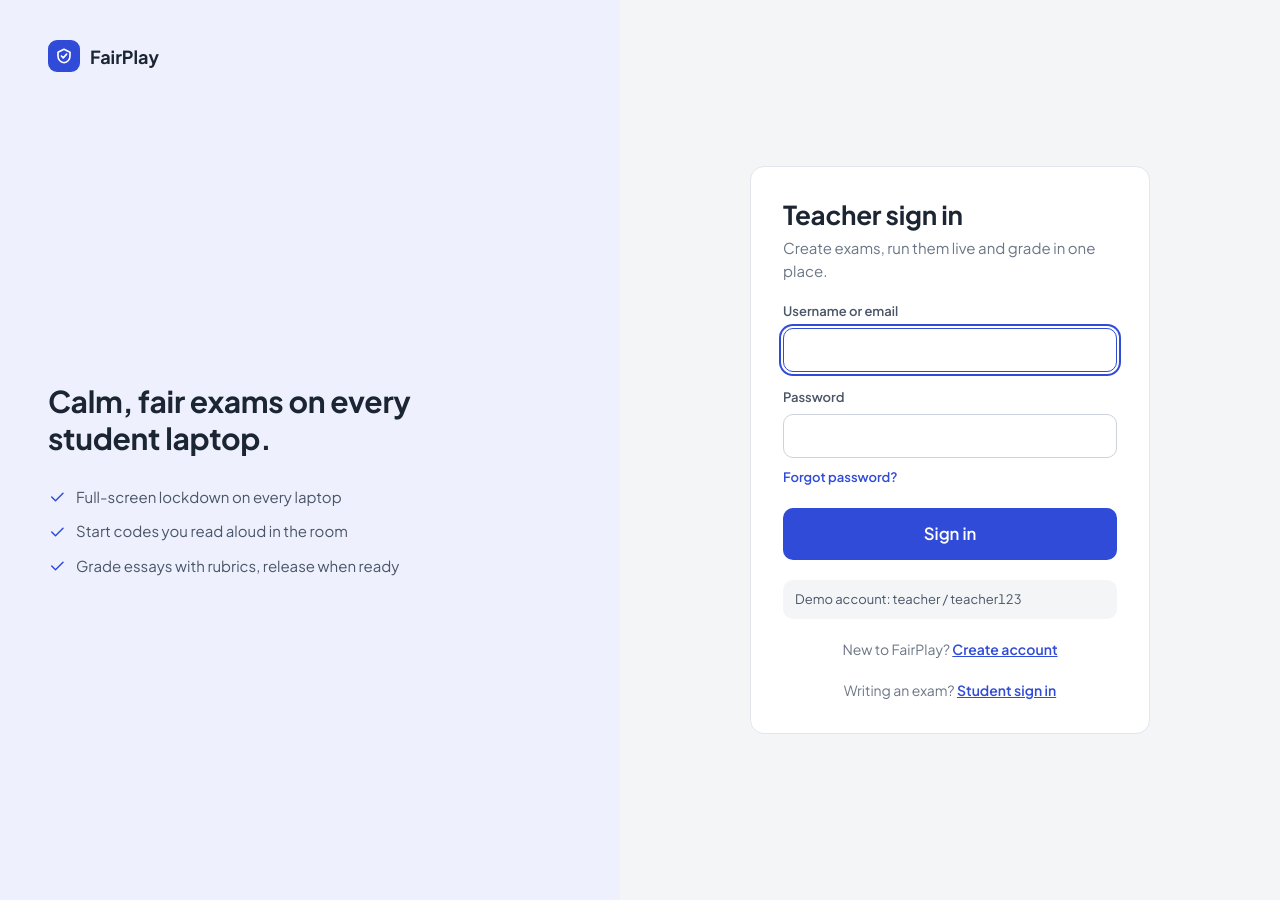
Test: LoginPage › redirects by role after sign-in (superadmin on the teacher page goes to /admin)
The image size is (1280, 900).
Type "admin" into the field labelled "Username or email" at {"x": 950, "y": 350}, box [783,328,1117,372]
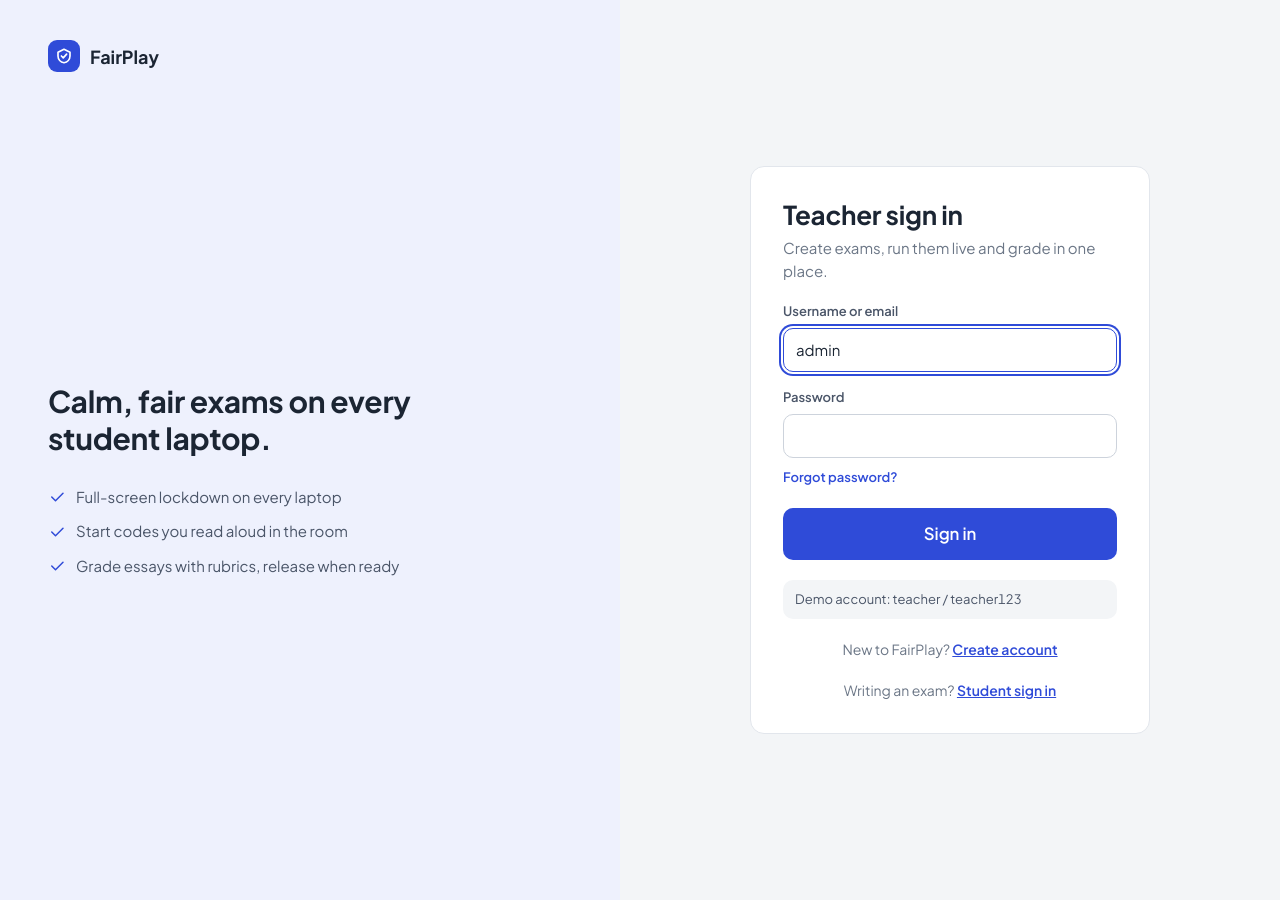
Type "admin123" into the password field labelled "Password" at {"x": 950, "y": 436}, box [783,414,1117,458]
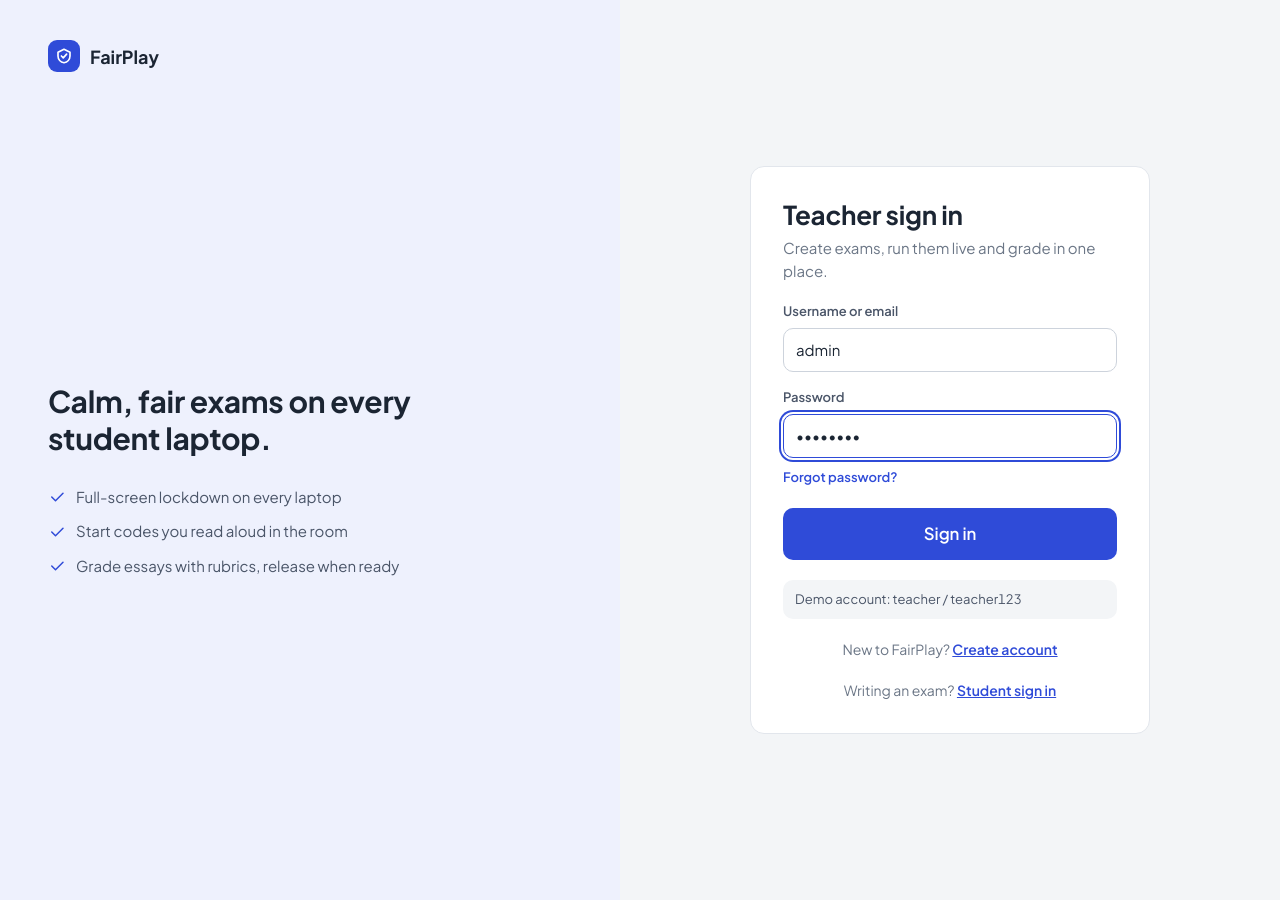
Click the button "Sign in" at {"x": 950, "y": 534}, box [783,508,1117,560]
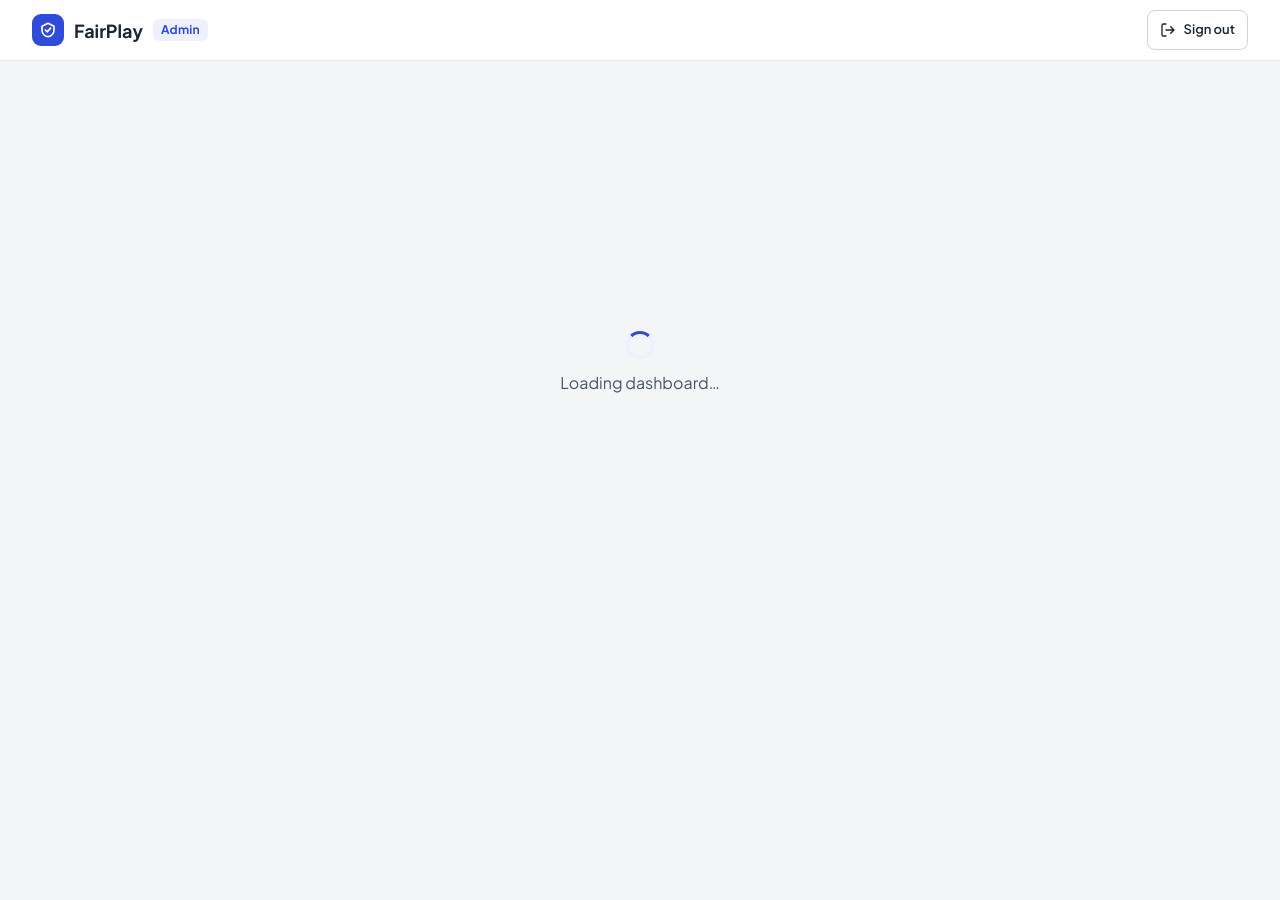
Expected: the text "Loading dashboard…" is shown, [560,371,720,395]
